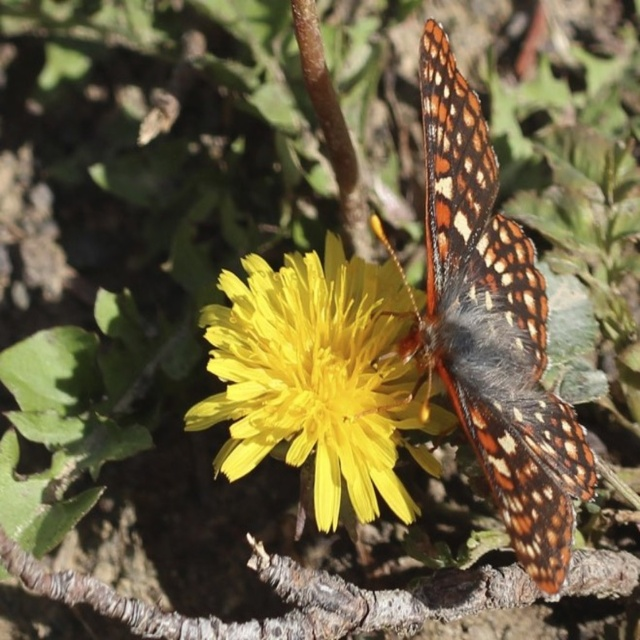Butterfly: (371, 17, 597, 596)
